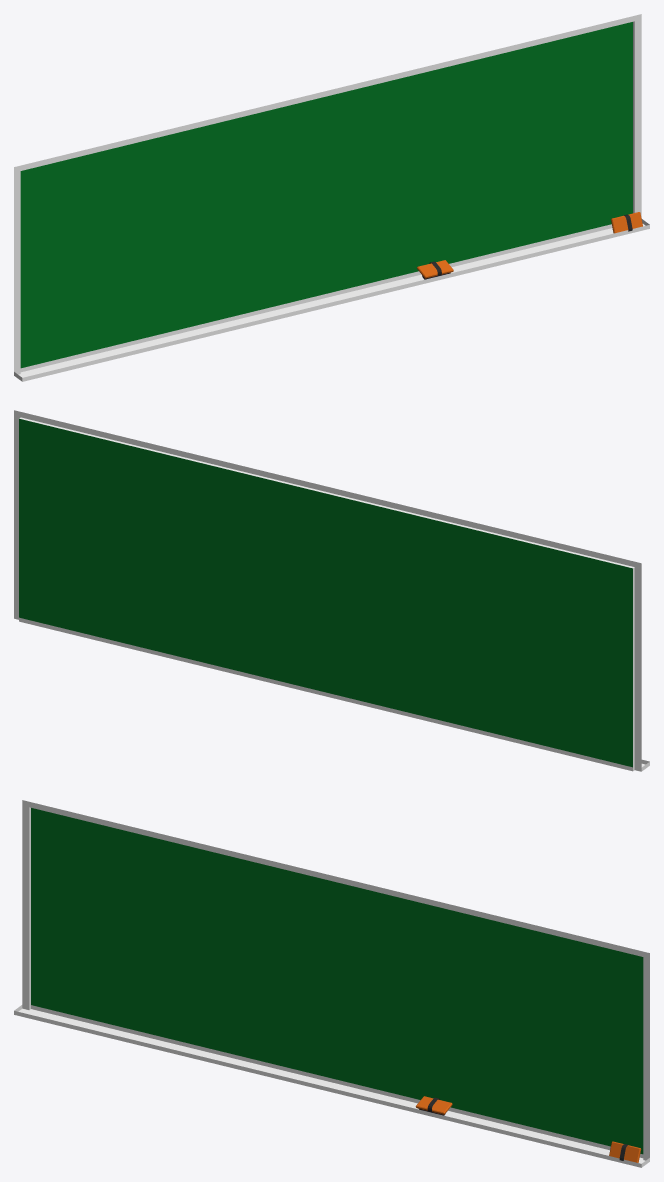
The model's file is blackboard_center.glb.
3 views of the same model, one above another, from view 1: azimuth 30°, elevation 25°; view 2: azimuth 150°, elevation 25°; view 3: azimuth 330°, elevation 25° (orthographic).
Parts seen in each view (by area): view 1: blackboard, black_board_creaner.001; view 2: blackboard; view 3: blackboard, black_board_creaner.001.
Boxes of the visible parts, <box> form: blackboard: <box>14,14,649,381</box>; black_board_creaner.001: <box>417,212,642,279</box>; blackboard: <box>14,410,649,771</box>; blackboard: <box>14,800,649,1167</box>; black_board_creaner.001: <box>415,1096,641,1162</box>.
Size of the model in its own units: 11.08 by 3.54 by 0.3339.
